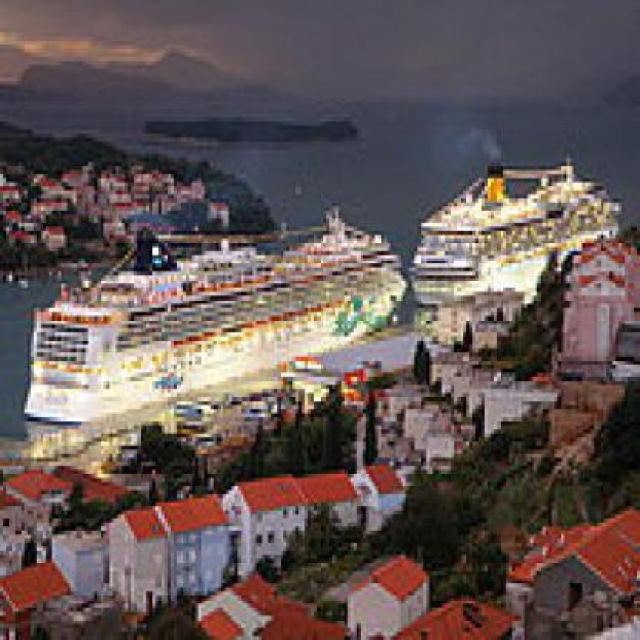cruise: (19, 207, 416, 435), (413, 150, 631, 289)
